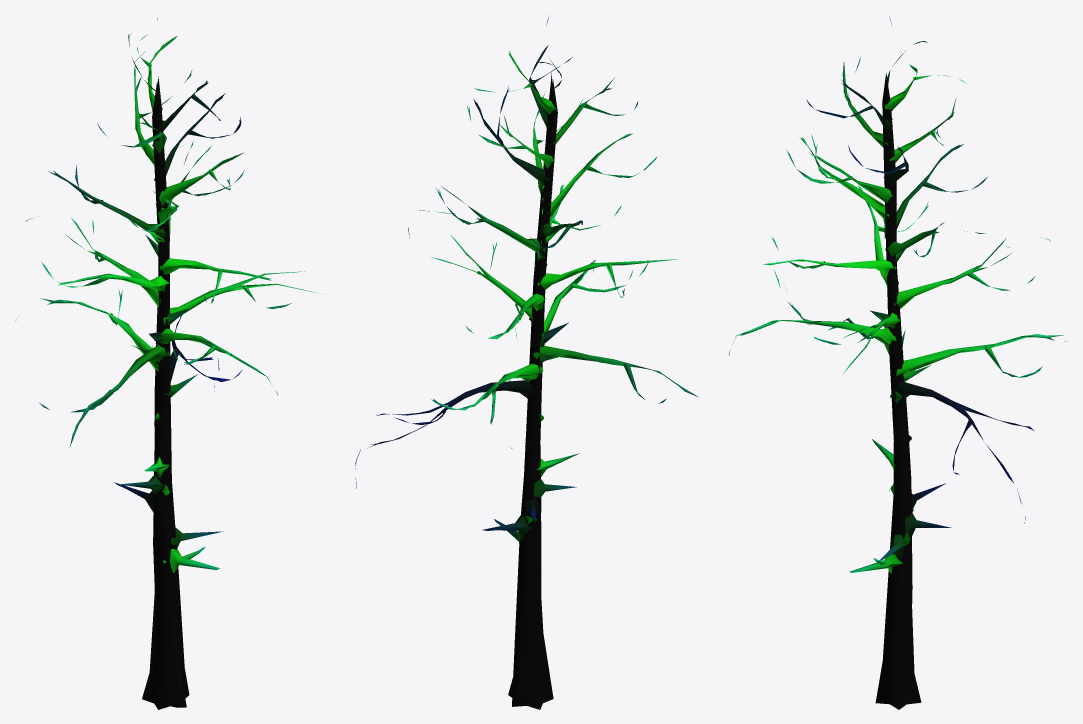
Rendered from ScotOneLOD1.fbx.
3 renders of one model, left to right at view 1: azimuth 30°, elevation 25°; view 2: azimuth 150°, elevation 25°; view 3: azimuth 270°, elevation 25°, orthographic. The views are drawn at different scales.
Visible parts, largest first — view 1: _0; view 2: _0; view 3: _0.
Part boxes in pixels (box(x1,y1,x2,y2)): _0: box(15, 18, 318, 709); _0: box(355, 17, 697, 709); _0: box(728, 17, 1067, 709).
Size of the model in its own units: 7.04 by 17.61 by 8.01.
